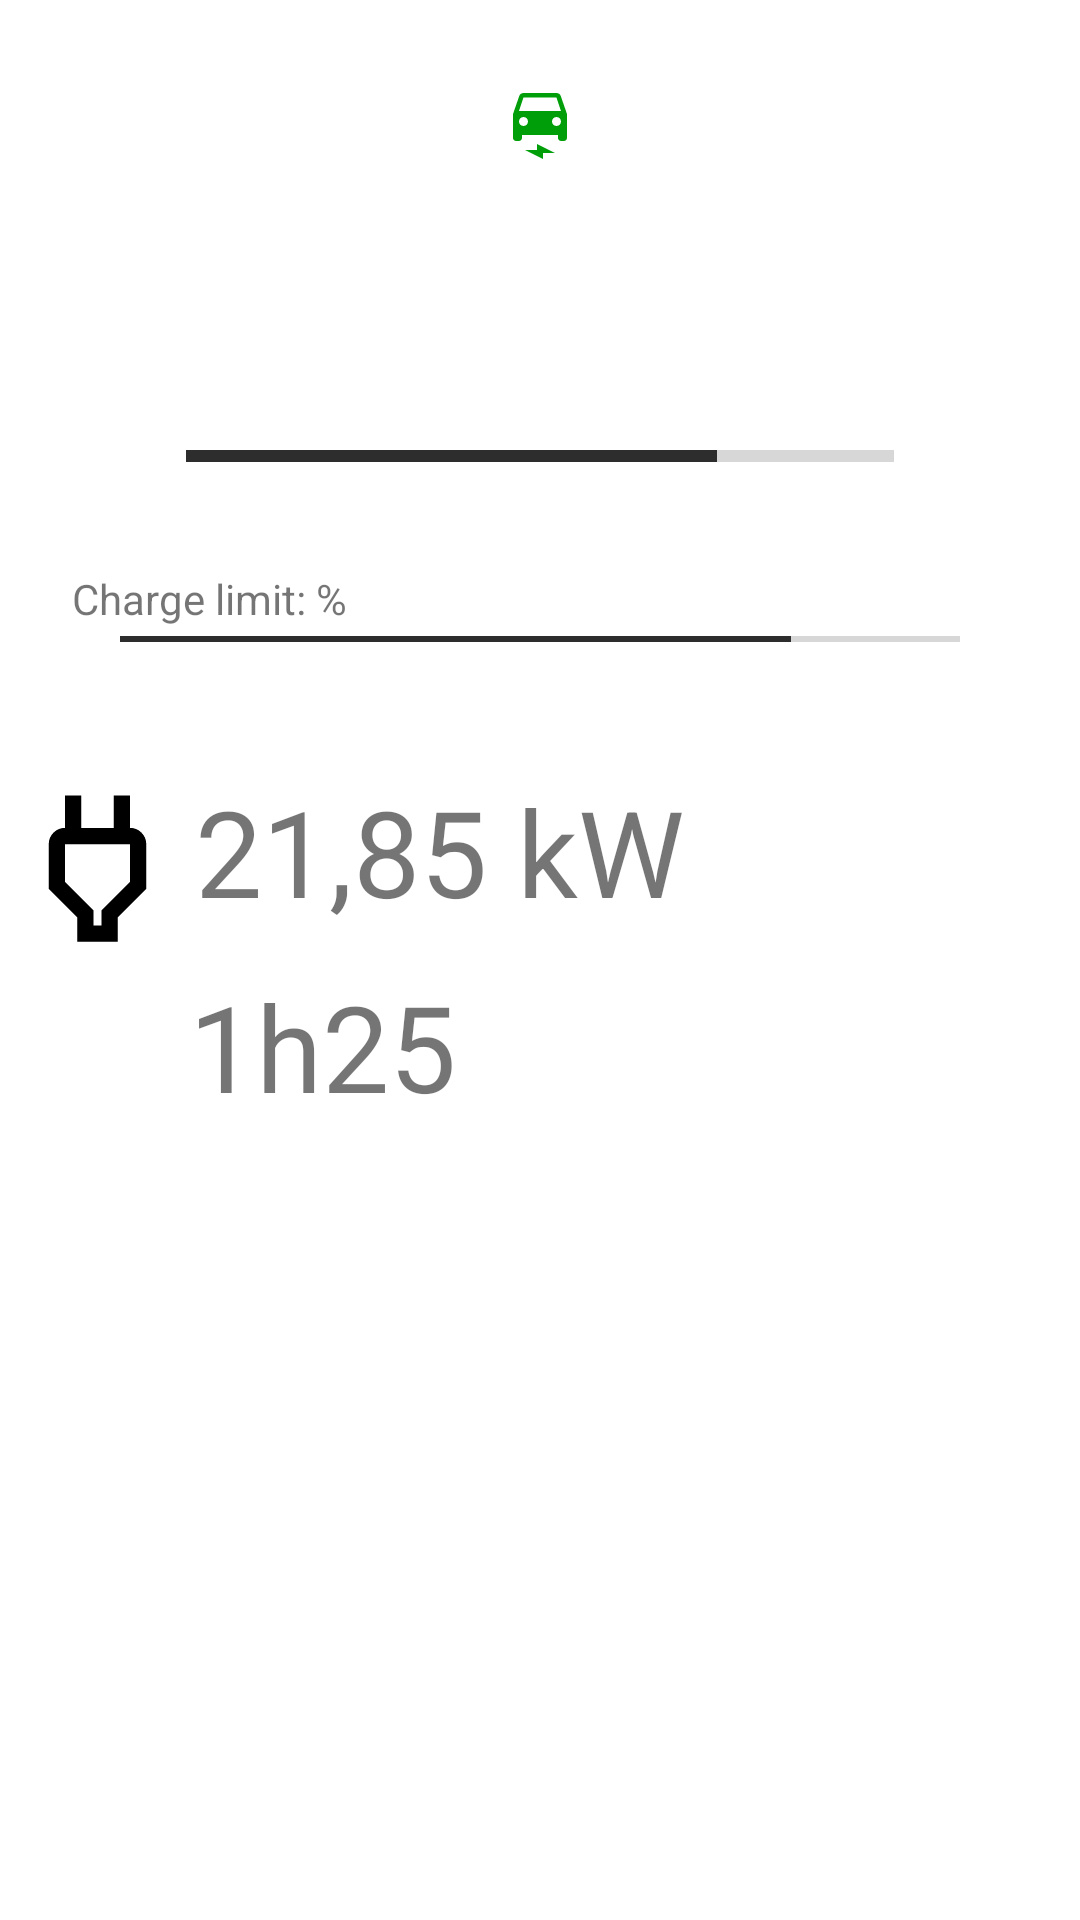

Named icons in this screenshot (1080*1920) and their centers, [x,y]:
electric car: [540,126]
power: [97,868]
